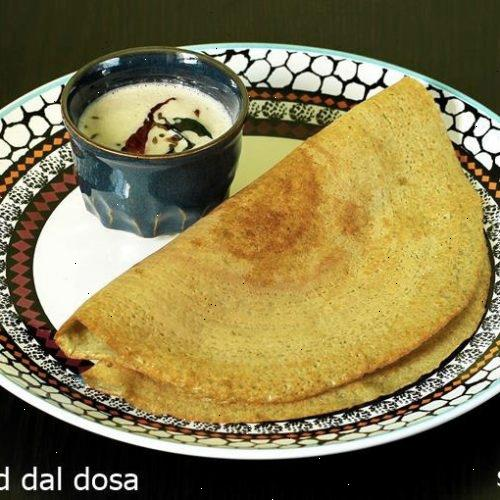coconut chutney: (85, 67, 209, 154)
dosa: (125, 185, 499, 412)
